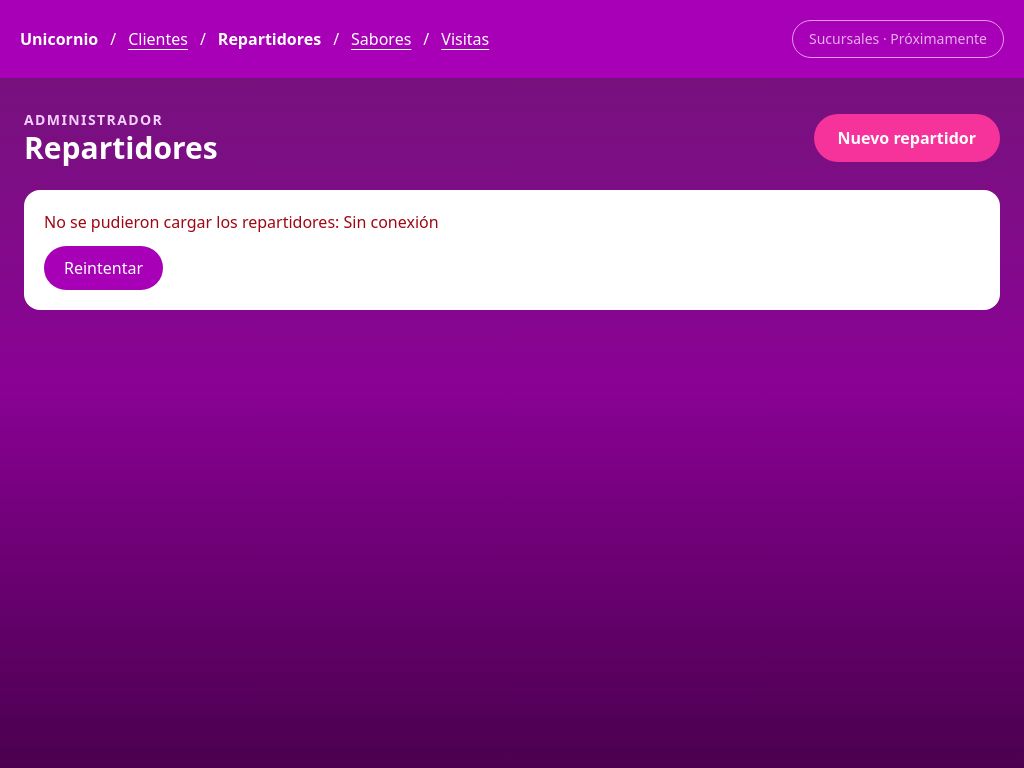
Test: RepartidoresPage › shows an error and retries
Expected: the message "No se pudieron cargar los repartidores: Sin conexión Reintentar" is shown, [24,190,1000,310]
Click the button "Reintentar" at (104, 268), box [44,246,163,290]
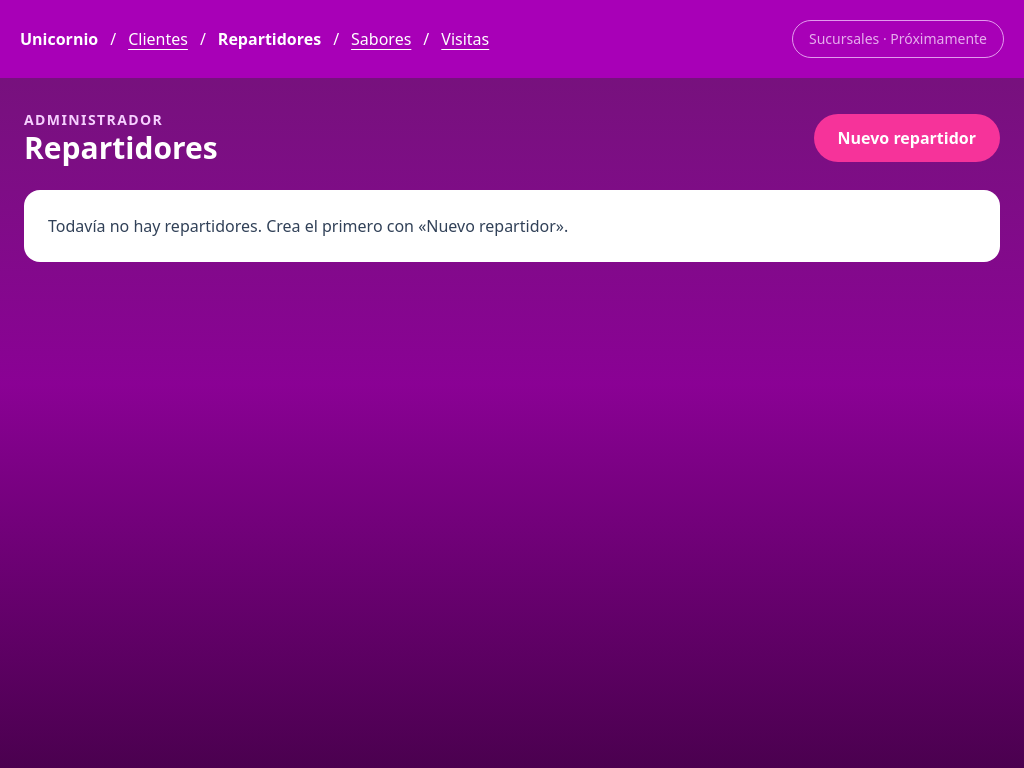
Result: the text "Todavía no hay repartidores" is shown at [48,215,568,237]
